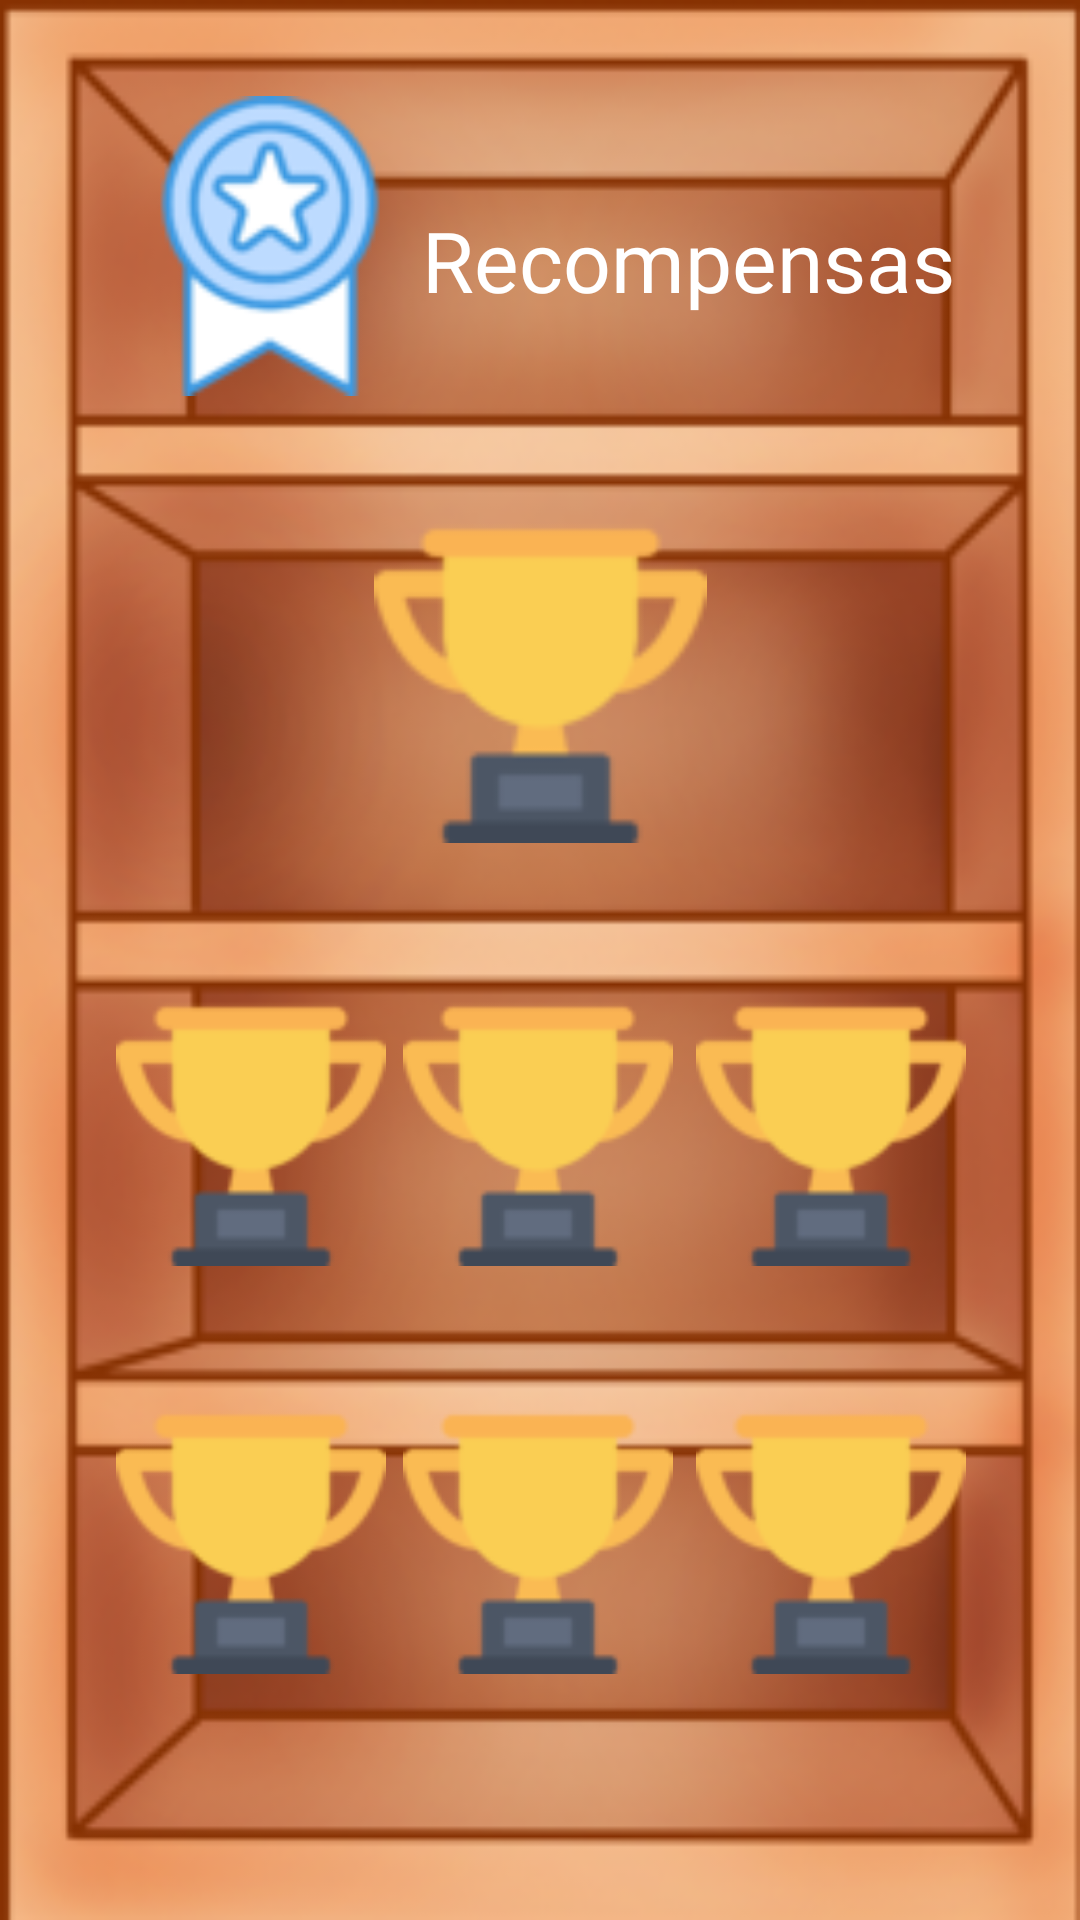

Point at icon controls on the screen. Image size 1080 × 1920, points as [x,y].
medalla: [270,246]
trofeo: [540,679], [251,1131], [831,1131], [538,1136], [251,1539], [538,1539], [831,1539]
